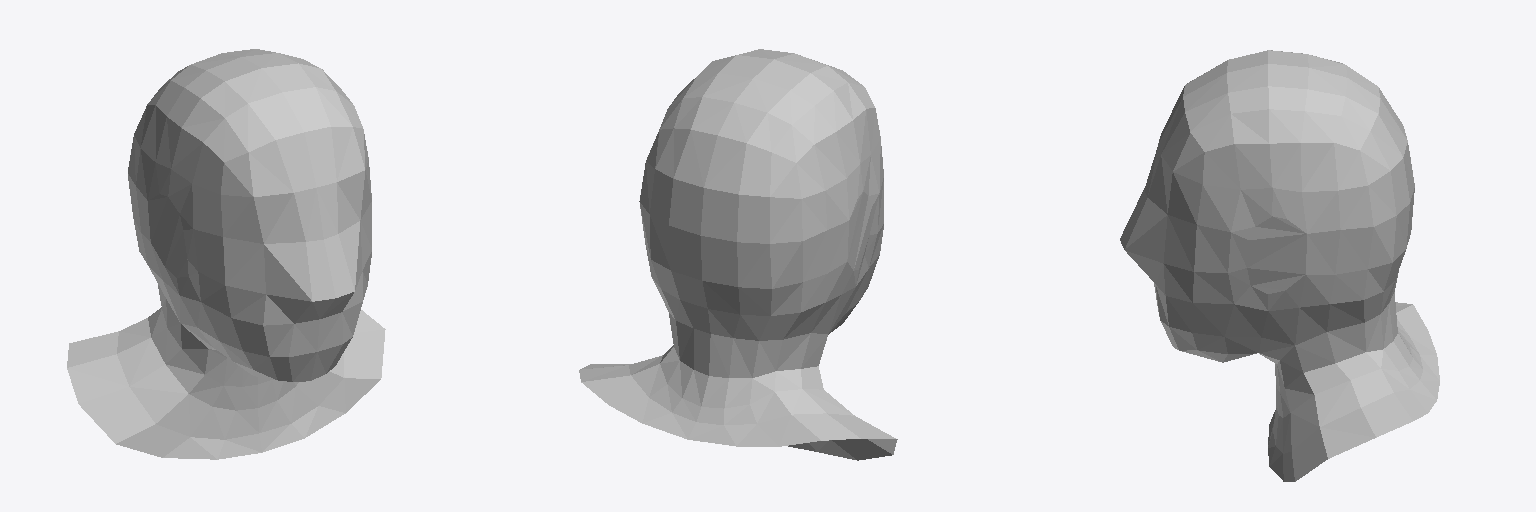
File: head_no_ears.obj
3 views of the same model, side by side, from view 1: azimuth 30°, elevation 25°; view 2: azimuth 150°, elevation 25°; view 3: azimuth 270°, elevation 25° (orthographic).
Visible parts, largest first — view 1: Head; view 2: Head; view 3: Head.
Part boxes in pixels (bbox=[...]): Head: bbox=[67, 49, 385, 459]; Head: bbox=[579, 49, 897, 460]; Head: bbox=[1120, 50, 1439, 481].
Bounding box in the file's own units: 25.74 × 30.8 × 23.25.